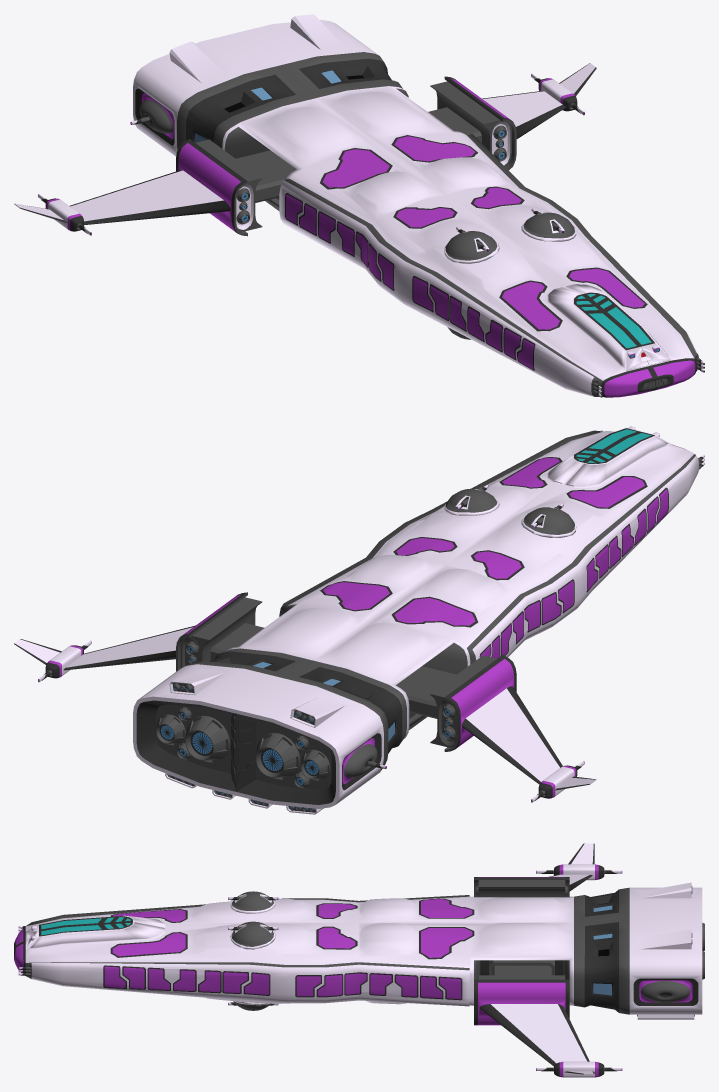
Rendered from Chung-Freese1.glb.
3 renders of one model, top to bottom at view 1: azimuth 30°, elevation 25°; view 2: azimuth 150°, elevation 25°; view 3: azimuth 270°, elevation 25°, orthographic. The views are drawn at different scales.
Parts seen in each view (by area): view 1: _C-Group#1 (Loose Mesh).001, _C-Group#1 (Loose Mesh), _C-Group#2 (Loose Mesh).001, _C-Group#2 (Loose Mesh), C-SimpleDome02.002, C-SimpleDome02, _C-Group#6 (Loose Mesh).001, _C-Group#6 (Loose Mesh); view 2: _C-Group#1 (Loose Mesh).001, _C-Group#1 (Loose Mesh), _C-Group#2 (Loose Mesh).001, _C-Group#2 (Loose Mesh), C-Group#30.033, C-Group#30.006, C-SimpleDome02.002, C-SimpleDome02, C-Group#30.007, C-Group#30.034, _C-Group#6 (Loose Mesh).001, _C-Group#6 (Loose Mesh); view 3: _C-Group#1 (Loose Mesh), _C-Group#1 (Loose Mesh).001, _C-Group#2 (Loose Mesh), _C-Group#2 (Loose Mesh).001, C-SimpleDome02, _C-Group#6 (Loose Mesh), C-SimpleDome02.002, _C-Group#6 (Loose Mesh).001.
Boxes of the visible parts, x1,y1,x2,y2 form: _C-Group#1 (Loose Mesh).001: [133, 33, 655, 397]; _C-Group#1 (Loose Mesh): [237, 14, 698, 390]; _C-Group#2 (Loose Mesh).001: [14, 139, 296, 236]; _C-Group#2 (Loose Mesh): [428, 63, 596, 170]; C-SimpleDome02.002: [444, 231, 499, 263]; C-SimpleDome02: [521, 212, 576, 241]; _C-Group#6 (Loose Mesh).001: [45, 198, 83, 231]; _C-Group#6 (Loose Mesh): [538, 78, 577, 111]; _C-Group#1 (Loose Mesh).001: [236, 431, 698, 814]; _C-Group#1 (Loose Mesh): [133, 428, 640, 799]; _C-Group#2 (Loose Mesh).001: [396, 655, 596, 790]; _C-Group#2 (Loose Mesh): [14, 592, 264, 671]; C-Group#30.033: [255, 733, 300, 779]; C-Group#30.006: [185, 715, 229, 762]; C-SimpleDome02.002: [521, 507, 576, 537]; C-SimpleDome02: [444, 488, 499, 515]; C-Group#30.007: [156, 714, 185, 745]; C-Group#30.034: [301, 749, 330, 780]; _C-Group#6 (Loose Mesh).001: [538, 765, 577, 798]; _C-Group#6 (Loose Mesh): [45, 645, 83, 678]; _C-Group#1 (Loose Mesh): [14, 916, 702, 1019]; _C-Group#1 (Loose Mesh).001: [14, 882, 702, 948]; _C-Group#2 (Loose Mesh): [474, 960, 594, 1074]; _C-Group#2 (Loose Mesh).001: [474, 843, 594, 897]; C-SimpleDome02: [230, 921, 275, 949]; _C-Group#6 (Loose Mesh): [554, 1061, 604, 1077]; C-SimpleDome02.002: [230, 891, 275, 913]; _C-Group#6 (Loose Mesh).001: [554, 864, 604, 880].
Bounding box in the file's own units: 364 × 63.29 × 461.
